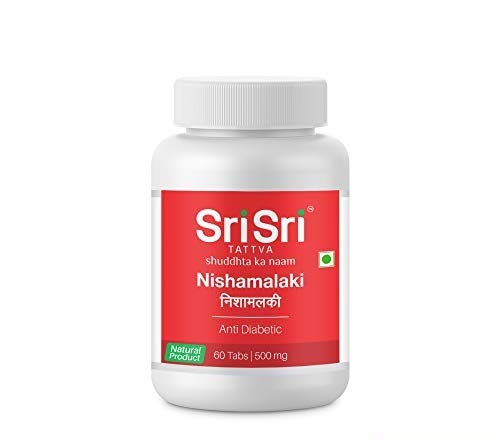Nishamalaki: (197, 273, 303, 288)
